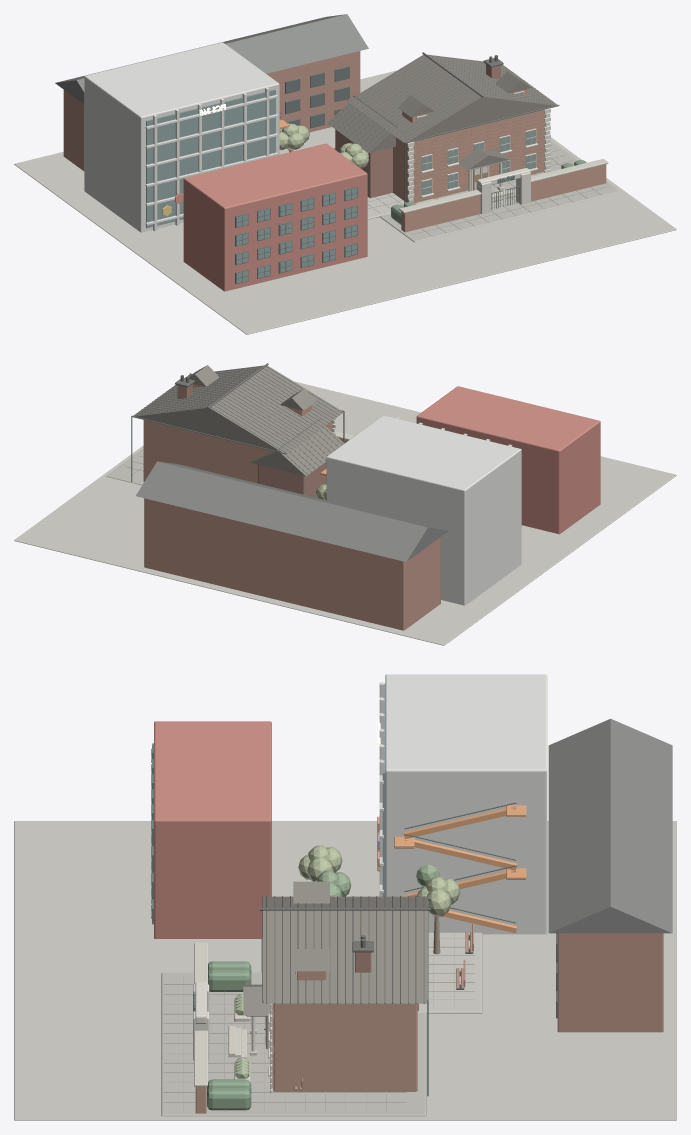
The model's file is fics-xinhua-365.glb.
The picture shows the model from 3 angles, top to bottom: view 1: azimuth 30°, elevation 25°; view 2: azimuth 150°, elevation 25°; view 3: azimuth 270°, elevation 25°; orthographic projection. The views are drawn at different scales.
Visible parts, largest first — view 1: fics-xinhua-365; view 2: fics-xinhua-365; view 3: fics-xinhua-365.
Part boxes in pixels (<box>): fics-xinhua-365: <box>14,14,676,334</box>; fics-xinhua-365: <box>14,363,676,645</box>; fics-xinhua-365: <box>14,674,676,1120</box>.
Size of the model in its own units: 48 by 12.4 by 45.
